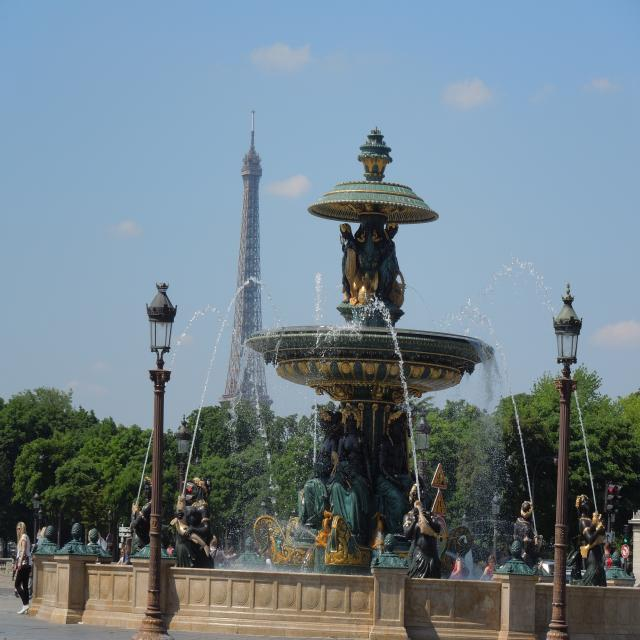body: (293, 407, 442, 580), (128, 471, 215, 569), (336, 216, 410, 312), (573, 491, 609, 604), (508, 496, 546, 592), (13, 522, 33, 616), (10, 539, 39, 600), (208, 535, 238, 570), (220, 543, 262, 567), (448, 549, 470, 580), (87, 528, 108, 552), (480, 555, 496, 581), (601, 541, 613, 569), (263, 550, 277, 572), (37, 526, 47, 548), (116, 548, 129, 564), (124, 536, 132, 557), (167, 539, 176, 555)
